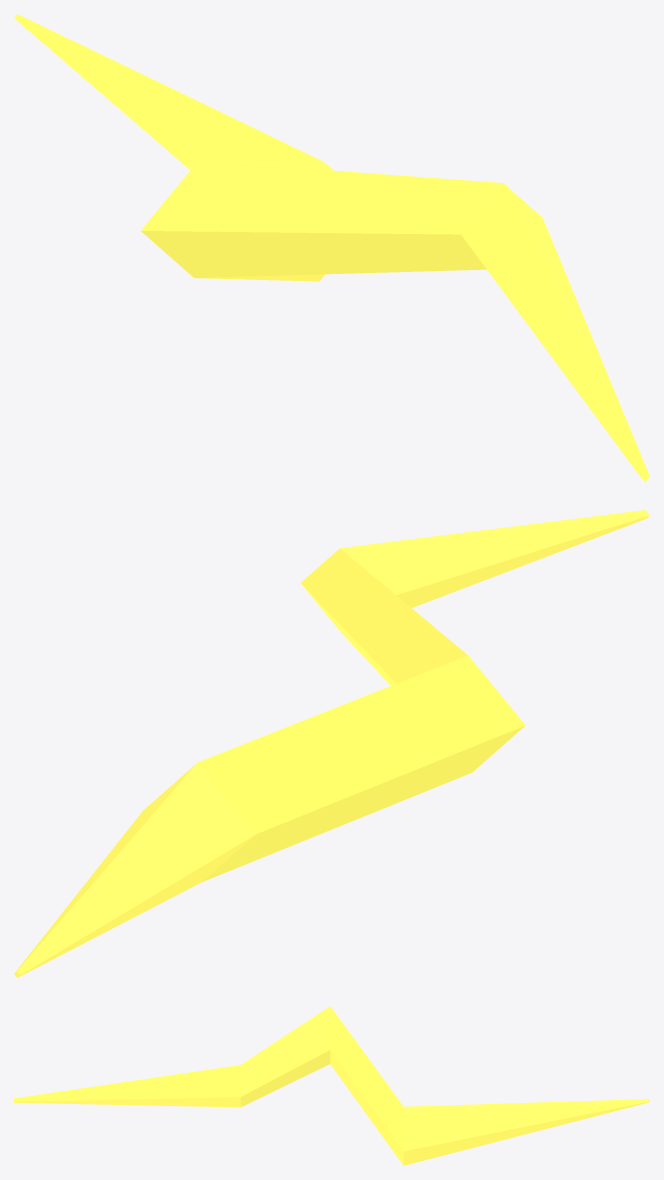
The model's file is Piorun.glb.
The picture shows the model from 3 angles, top to bottom: view 1: azimuth 30°, elevation 25°; view 2: azimuth 150°, elevation 25°; view 3: azimuth 270°, elevation 25°; orthographic projection. The views are drawn at different scales.
Parts seen in each view (by area): view 1: Cube; view 2: Cube; view 3: Cube.
Boxes of the visible parts, x1,y1,x2,y2 form: Cube: [14, 14, 649, 481]; Cube: [14, 510, 649, 977]; Cube: [14, 1006, 649, 1165].
Bounding box in the file's own units: 3.67 × 2.48 × 12.75.
